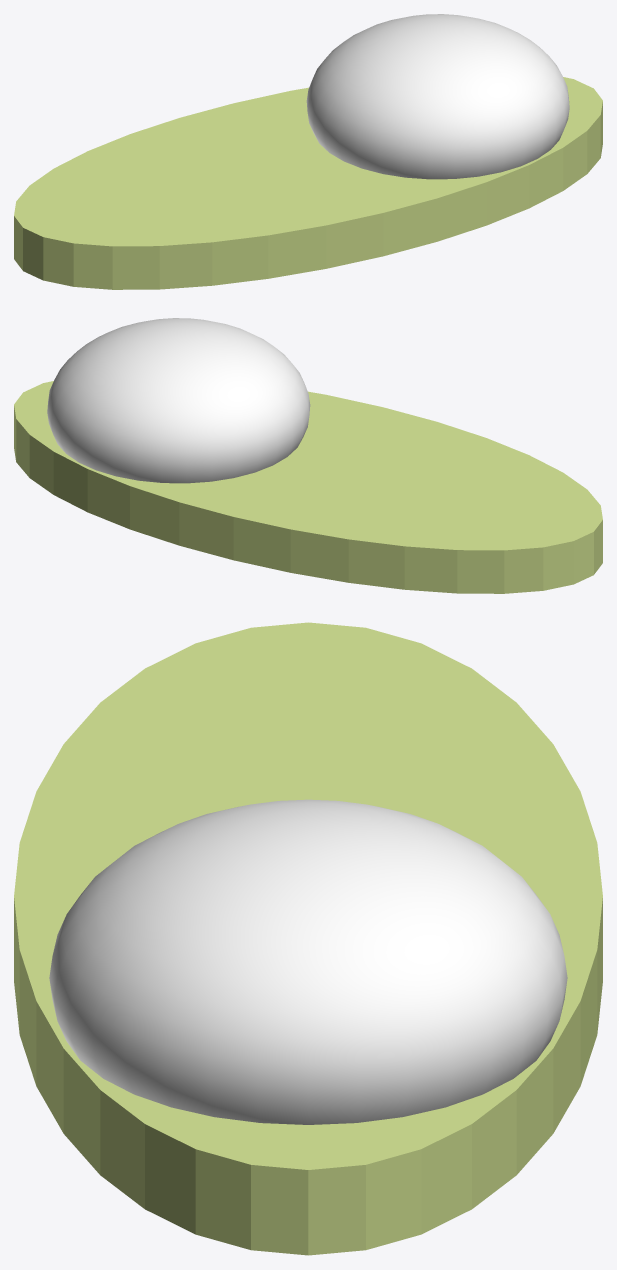
Rendered from SM_UI_Toggle.glb.
3 views of the same model, one above another, from view 1: azimuth 30°, elevation 25°; view 2: azimuth 150°, elevation 25°; view 3: azimuth 270°, elevation 25° (orthographic). The views are drawn at different scales.
Parts seen in each view (by area): view 1: SM_UI_ToggleTrack, SM_UI_ToggleKnob; view 2: SM_UI_ToggleTrack, SM_UI_ToggleKnob; view 3: SM_UI_ToggleTrack, SM_UI_ToggleKnob.
Boxes of the visible parts, x1=… form: SM_UI_ToggleTrack: x1=14, y1=77, x2=602, y2=289; SM_UI_ToggleKnob: x1=306, y1=14, x2=569, y2=179; SM_UI_ToggleTrack: x1=14, y1=381, x2=602, y2=593; SM_UI_ToggleKnob: x1=47, y1=318, x2=310, y2=483; SM_UI_ToggleTrack: x1=14, y1=622, x2=602, y2=1255; SM_UI_ToggleKnob: x1=49, y1=799, x2=567, y2=1124.
Size of the model in its own units: 1.1 by 0.264 by 0.5.
